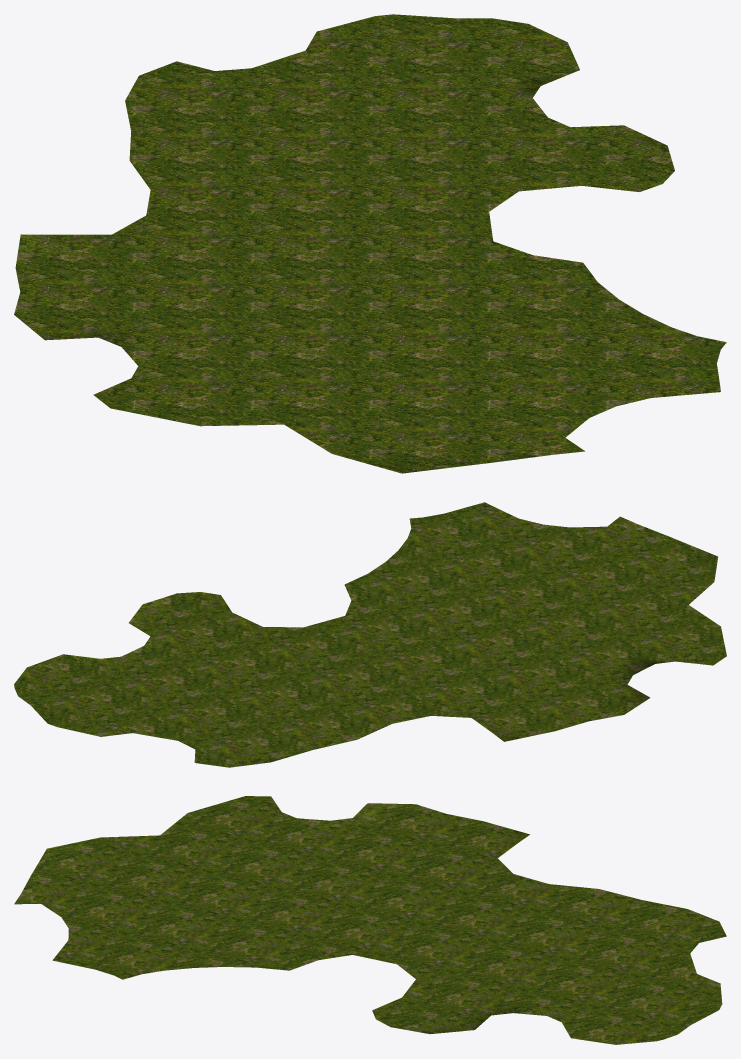
Rendered from OVERHILL_A_01_LINE242.fbx.
3 views of the same model, one above another, from view 1: azimuth 30°, elevation 25°; view 2: azimuth 150°, elevation 25°; view 3: azimuth 270°, elevation 25° (orthographic). The views are drawn at different scales.
Visible parts, largest first — view 1: OVERHILL_A_01_LINE242; view 2: OVERHILL_A_01_LINE242; view 3: OVERHILL_A_01_LINE242.
Boxes of the visible parts, x1,y1,x2,y2 form: OVERHILL_A_01_LINE242: [14, 14, 726, 473]; OVERHILL_A_01_LINE242: [14, 502, 726, 767]; OVERHILL_A_01_LINE242: [14, 796, 726, 1044].
Size of the model in its own units: 179012 by 130 by 216723.
1 material, 1 textured.
